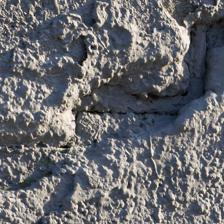Crack: (69, 4, 221, 148)
